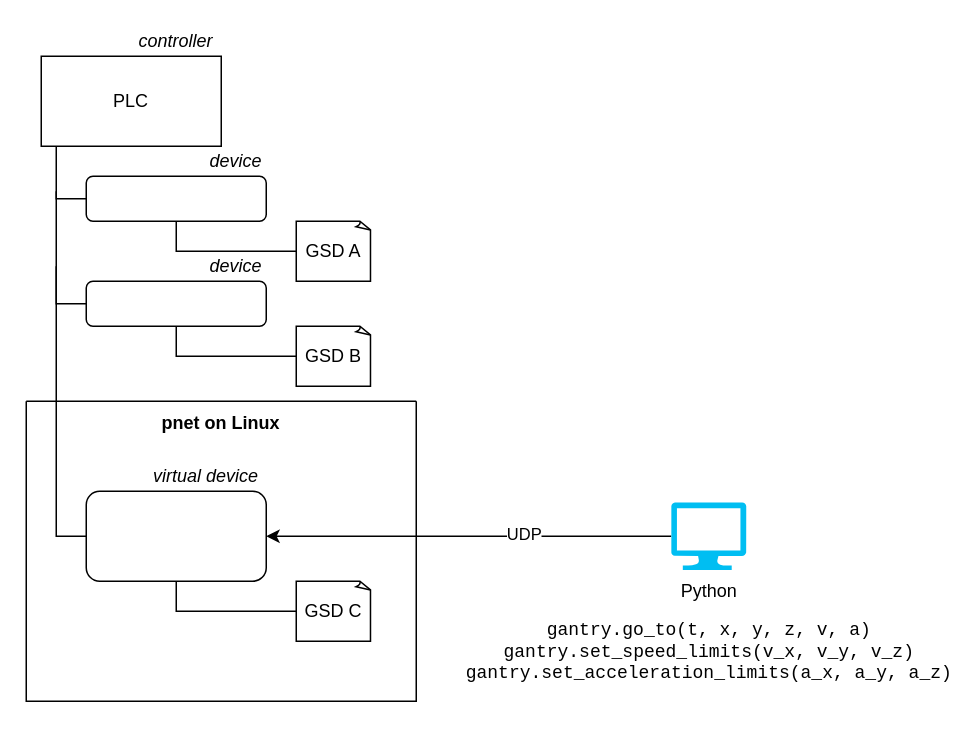
Image size: 978x729. Some labels were removed from this diagram. The shapes that lost their labels are listed below. From the top down, each one's centre as x and y in pixels, then its label:
At point (175, 198): "Axis 1".
At point (175, 303): "Axis 2".
At point (175, 535): "Accuracy Co Controller (ACC)".
